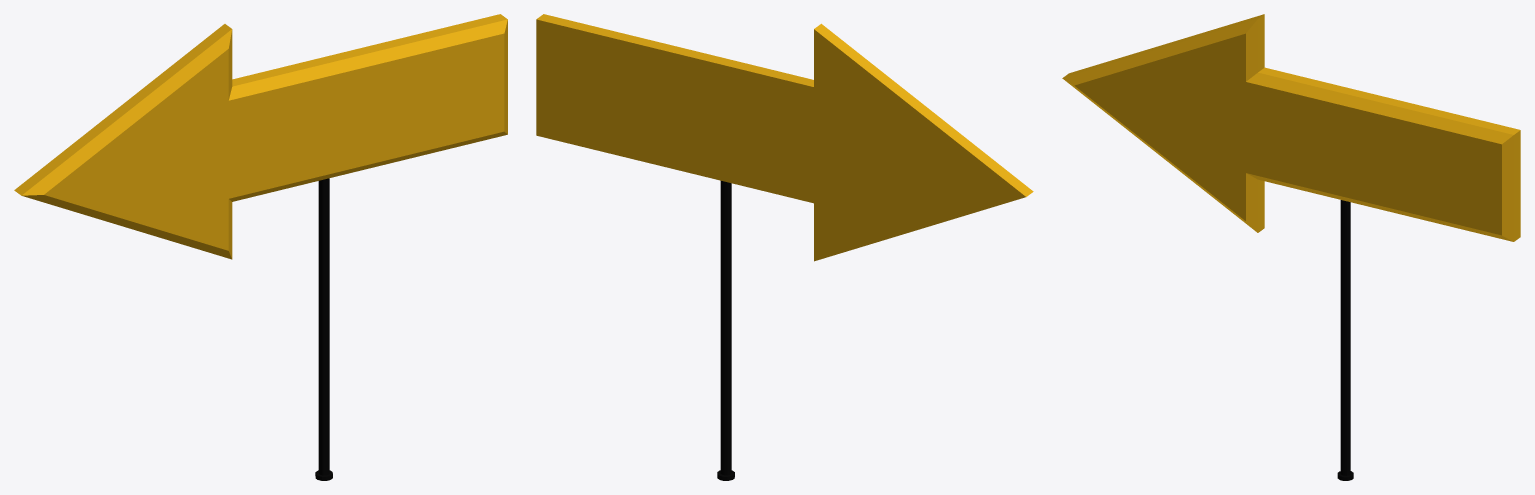
File: signs.fbx
3 renders of one model, left to right at view 1: azimuth 30°, elevation 25°; view 2: azimuth 150°, elevation 25°; view 3: azimuth 330°, elevation 25°, orthographic. The views are drawn at different scales.
Visible parts, largest first — view 1: arrow sign; view 2: arrow sign; view 3: arrow sign.
Boxes of the visible parts, left/top/right/bottom form: arrow sign: left=14, top=14, right=507, bottom=480; arrow sign: left=536, top=14, right=1033, bottom=480; arrow sign: left=1062, top=14, right=1520, bottom=480.
Size of the model in its own units: 176 by 163 by 7.6.
